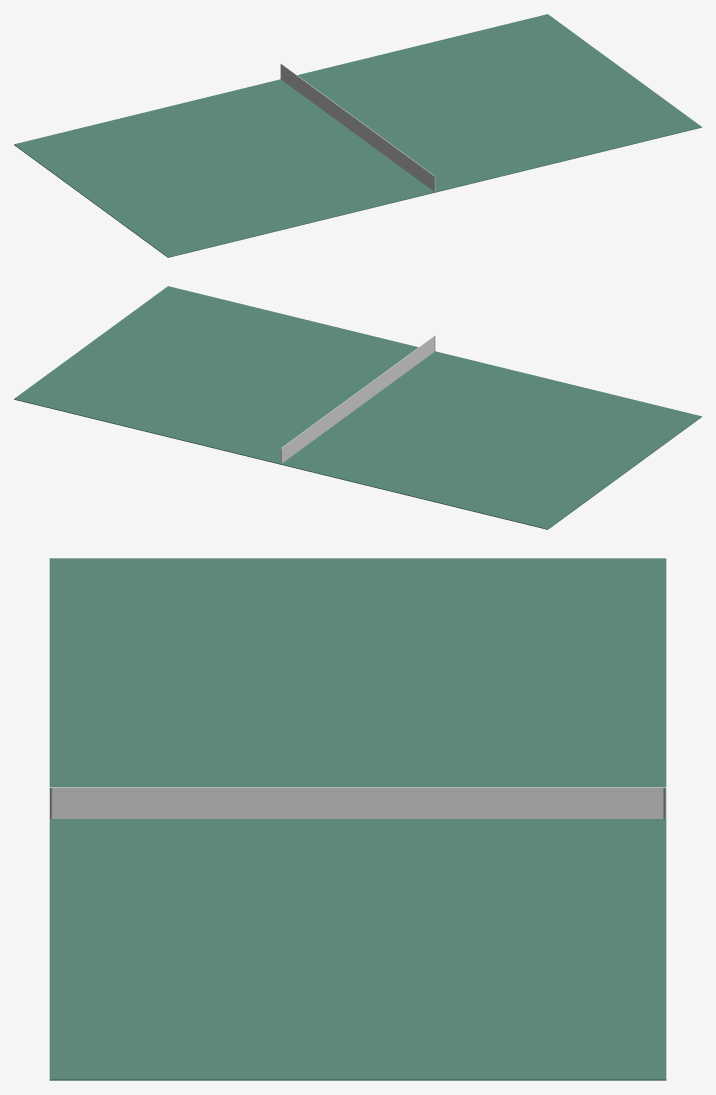
Rendered from tennis-court.glb.
3 views of the same model, one above another, from view 1: azimuth 30°, elevation 25°; view 2: azimuth 150°, elevation 25°; view 3: azimuth 270°, elevation 25° (orthographic). The views are drawn at different scales.
Visible parts, largest first — view 1: tennis-court-0, tennis-court-1; view 2: tennis-court-0, tennis-court-1; view 3: tennis-court-0, tennis-court-1.
Part boxes in pixels (bbox=[...]): tennis-court-0: bbox=[14, 14, 701, 257]; tennis-court-1: bbox=[281, 63, 435, 191]; tennis-court-0: bbox=[14, 286, 701, 529]; tennis-court-1: bbox=[280, 335, 434, 463]; tennis-court-0: bbox=[49, 558, 666, 1080]; tennis-court-1: bbox=[49, 787, 666, 818].
Bounding box in the file's own units: 36.6 × 1.07 × 18.3.
